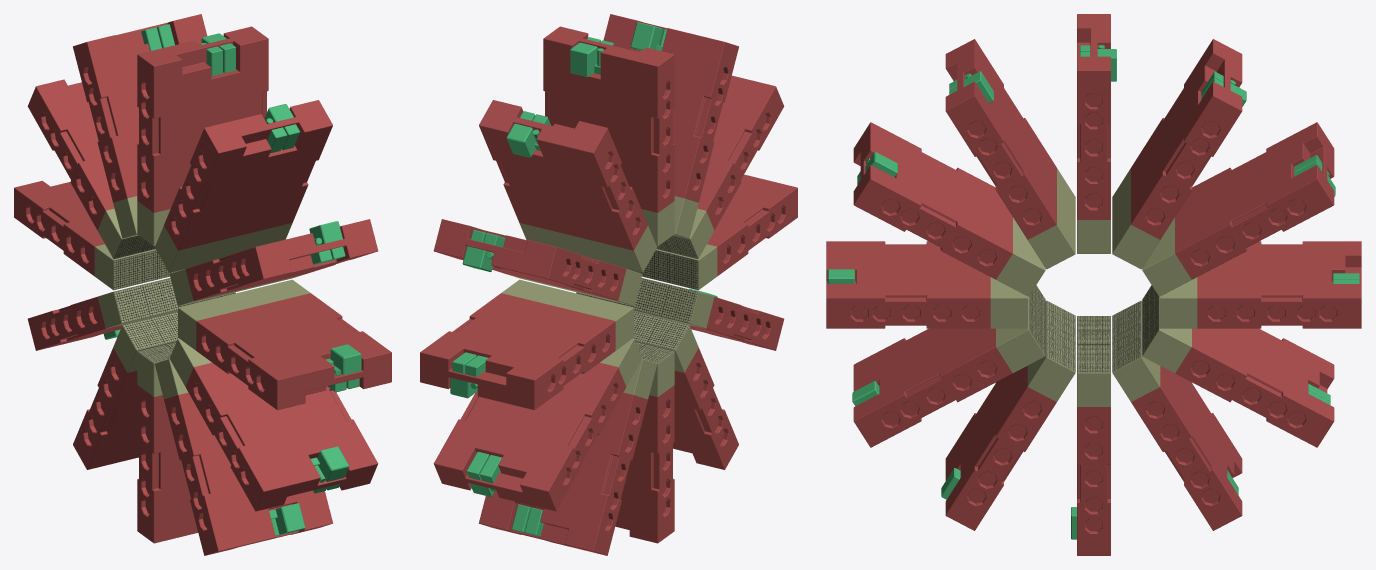
File: pet.obj
3 renders of one model, left to right at view 1: azimuth 30°, elevation 25°; view 2: azimuth 150°, elevation 25°; view 3: azimuth 270°, elevation 25°, orthographic.
Parts seen in each view (by area): view 1: group16 pCube5 group6, pCube5 group4 group16, group16 pCube5 group15, group16 pCube5 group7, group16 pCube5 group14, group16 pCube5 group8, group16 pCube5 group13, group16 pCube5 group9, group16 pCube5 group12, group16 pCube5 group5, group16 pCube5 group10, group16 pCube5 group11 (+4 smaller); view 2: group16 pCube5 group8, group16 pCube5 group10, group16 pCube5 group11, group16 pCube5 group7, group16 pCube5 group12, group16 pCube5 group6, group16 pCube5 group5, group16 pCube5 group13, pCube5 group4 group16, group16 pCube5 group14, group16 pCube5 group9, group16 pCube5 group15 (+4 smaller); view 3: group16 pCube5 group9, group16 pCube5 group5, group16 pCube5 group10, pCube5 group4 group16, group16 pCube5 group11, group16 pCube5 group15, group16 pCube5 group8, group16 pCube5 group6, group16 pCube5 group12, group16 pCube5 group14, group16 pCube5 group13, group16 pCube5 group7.
Boxes of the visible parts, x1,y1,x2,y2 form: group16 pCube5 group6: (154, 100, 332, 272); pCube5 group4 group16: (178, 279, 391, 410); group16 pCube5 group15: (169, 338, 378, 511); group16 pCube5 group7: (137, 26, 268, 246); group16 pCube5 group14: (155, 359, 332, 555); group16 pCube5 group8: (73, 14, 207, 238); group16 pCube5 group13: (137, 342, 197, 543); group16 pCube5 group9: (27, 79, 155, 258); group16 pCube5 group12: (73, 311, 178, 469); group16 pCube5 group5: (169, 219, 378, 306); group16 pCube5 group10: (14, 180, 184, 290); group16 pCube5 group11: (27, 278, 235, 350); group16 pCube5 group8: (479, 100, 657, 272); group16 pCube5 group10: (420, 279, 633, 410); group16 pCube5 group11: (433, 338, 642, 511); group16 pCube5 group7: (543, 26, 674, 246); group16 pCube5 group12: (479, 359, 656, 555); group16 pCube5 group6: (603, 14, 738, 238); group16 pCube5 group5: (656, 75, 784, 258); group16 pCube5 group13: (615, 342, 674, 543); pCube5 group4 group16: (627, 174, 797, 290); group16 pCube5 group14: (633, 311, 738, 469); group16 pCube5 group9: (433, 219, 642, 306); group16 pCube5 group15: (576, 278, 784, 350); group16 pCube5 group9: (1142, 122, 1334, 296); group16 pCube5 group5: (853, 122, 1045, 296); group16 pCube5 group10: (1159, 241, 1361, 328); pCube5 group4 group16: (826, 241, 1028, 328); group16 pCube5 group11: (1142, 285, 1334, 447); group16 pCube5 group15: (853, 285, 1045, 447); group16 pCube5 group8: (1112, 39, 1242, 269); group16 pCube5 group6: (945, 39, 1075, 269); group16 pCube5 group12: (1112, 300, 1242, 530); group16 pCube5 group14: (945, 300, 1075, 530); group16 pCube5 group13: (1077, 316, 1110, 555); group16 pCube5 group7: (1077, 14, 1110, 253).
Bounding box in the file's own units: 2.69 × 10.68 × 10.68.
2 materials, 1 textured.
